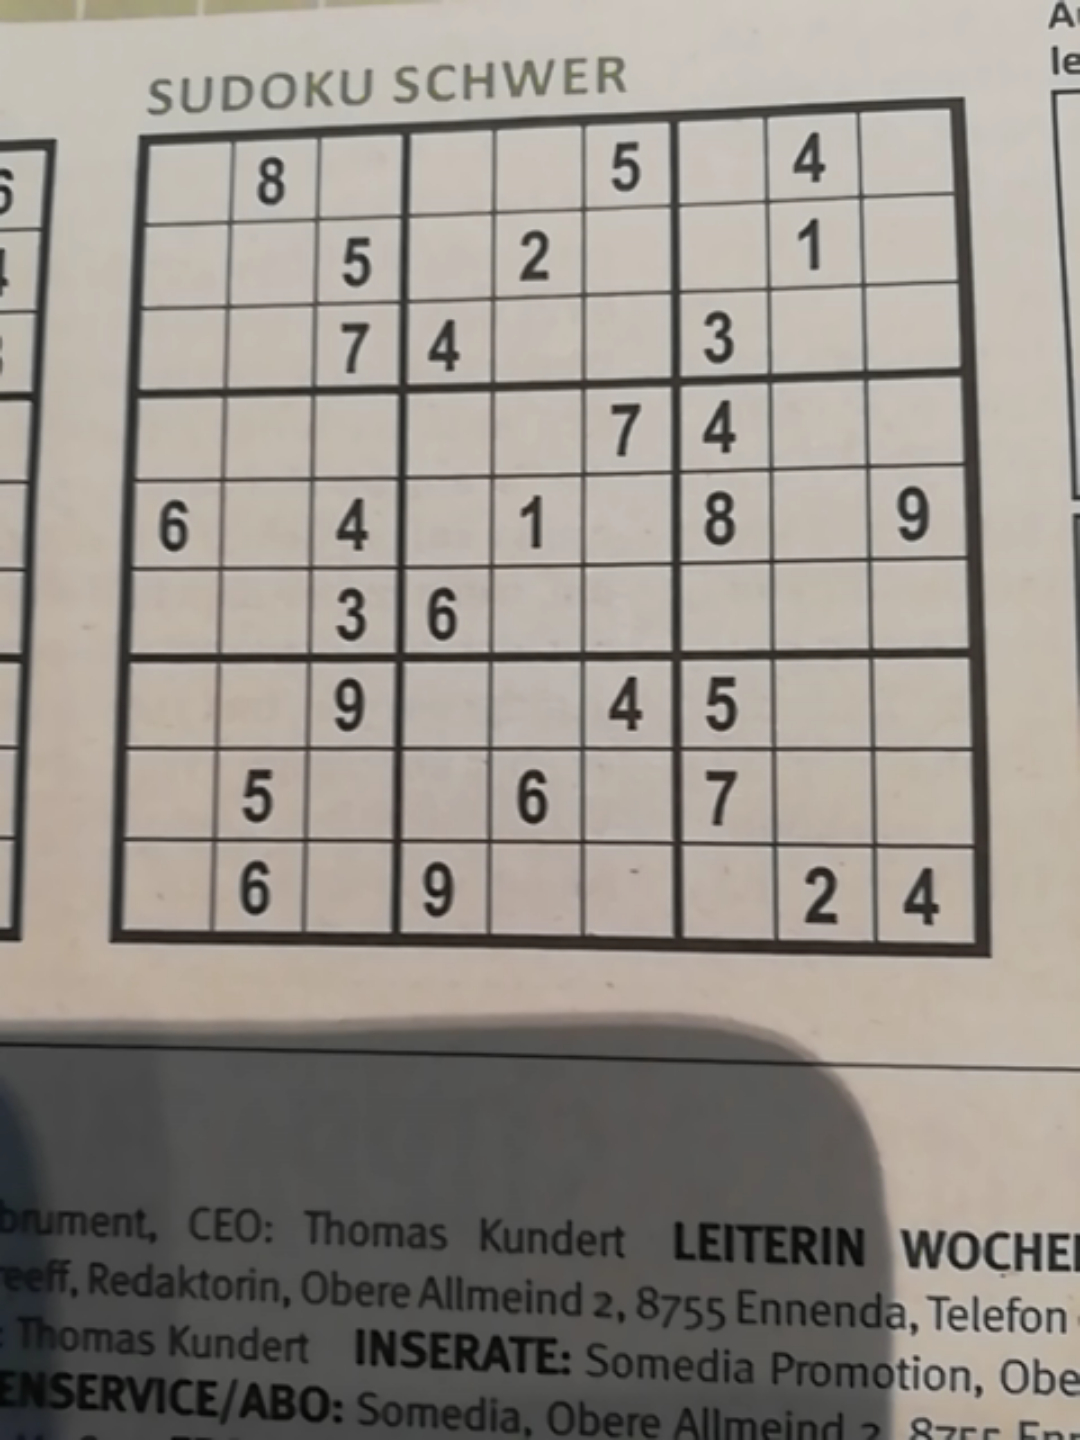sudoku: (103, 97, 994, 962)
